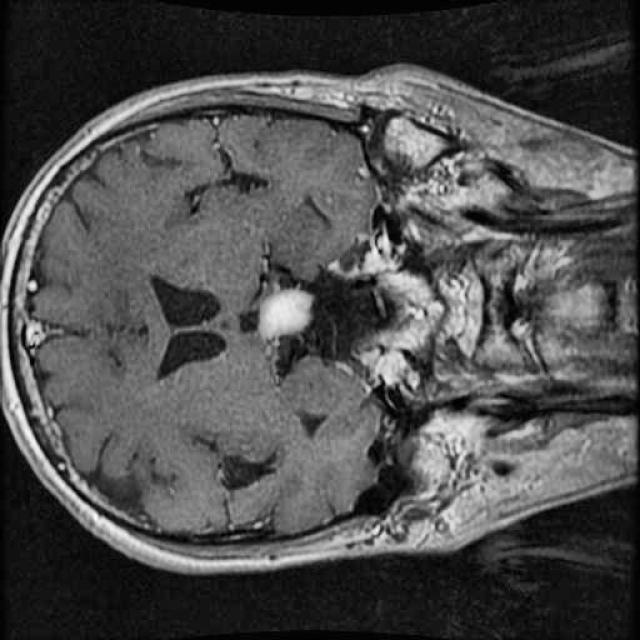Tumor: (239, 271, 334, 355)
